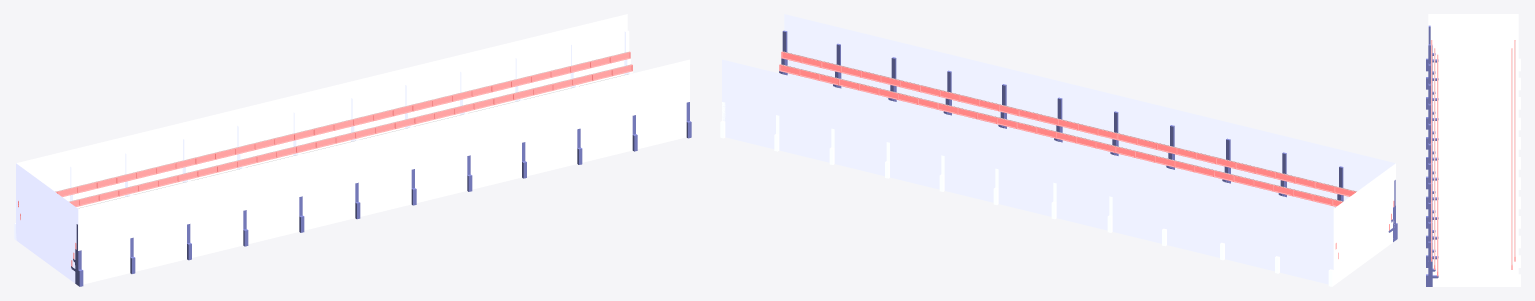
Rendered from 5p_1bay.glb.
The picture shows the model from 3 angles, left to right: view 1: azimuth 30°, elevation 25°; view 2: azimuth 150°, elevation 25°; view 3: azimuth 270°, elevation 25°; orthographic projection. The views are drawn at different scales.
Parts seen in each view (by area): view 1: 5P_1Bay, 5P_1Bay_Rail011, 5P_1Bay_Rail012, 5P_1Bay_Pillar005, 5P_1Bay_Pillar006, 5P_1Bay_Rail01_s002, 5P_1Bay_Rail02_s002, 5P_1Bay_Rail02_s004; view 2: 5P_1Bay, 5P_1Bay_Rail009, 5P_1Bay_Rail010, 5P_1Bay_Pillar005, 5P_1Bay_Pillar006, 5P_1Bay_Rail01_s002, 5P_1Bay_Rail02_s002; view 3: 5P_1Bay, 5P_1Bay_Pillar005, 5P_1Bay_Pillar006, 5P_1Bay_Rail009, 5P_1Bay_Rail010, 5P_1Bay_Rail011, 5P_1Bay_Rail012, 5P_1Bay_Rail014, 5P_1Bay_Rail02_s002, 5P_1Bay_Rail01_s002.
Part boxes in pixels (box(x1,y1,x2,y2)): 5P_1Bay: box(16, 14, 689, 284); 5P_1Bay_Rail011: box(18, 51, 630, 207); 5P_1Bay_Rail012: box(20, 64, 632, 219); 5P_1Bay_Pillar005: box(71, 102, 691, 286); 5P_1Bay_Pillar006: box(14, 30, 632, 240); 5P_1Bay_Rail01_s002: box(55, 51, 628, 191); 5P_1Bay_Rail02_s002: box(69, 64, 630, 201); 5P_1Bay_Rail02_s004: box(78, 74, 628, 208); 5P_1Bay: box(722, 14, 1395, 284); 5P_1Bay_Rail009: box(781, 51, 1394, 206); 5P_1Bay_Rail010: box(779, 64, 1391, 219); 5P_1Bay_Pillar005: box(779, 30, 1397, 241); 5P_1Bay_Pillar006: box(720, 102, 1337, 286); 5P_1Bay_Rail01_s002: box(783, 51, 1356, 191); 5P_1Bay_Rail02_s002: box(781, 64, 1342, 201); 5P_1Bay: box(1428, 14, 1518, 286); 5P_1Bay_Pillar005: box(1426, 25, 1438, 286); 5P_1Bay_Pillar006: box(1511, 25, 1520, 286); 5P_1Bay_Rail009: box(1431, 40, 1432, 261); 5P_1Bay_Rail010: box(1434, 48, 1435, 269); 5P_1Bay_Rail011: box(1514, 40, 1515, 261); 5P_1Bay_Rail012: box(1511, 48, 1512, 269); 5P_1Bay_Rail014: box(1437, 54, 1438, 276); 5P_1Bay_Rail02_s002: box(1434, 49, 1512, 264); 5P_1Bay_Rail01_s002: box(1515, 41, 1515, 255).
Size of the model in its own units: 255 by 30.68 by 47.12.
